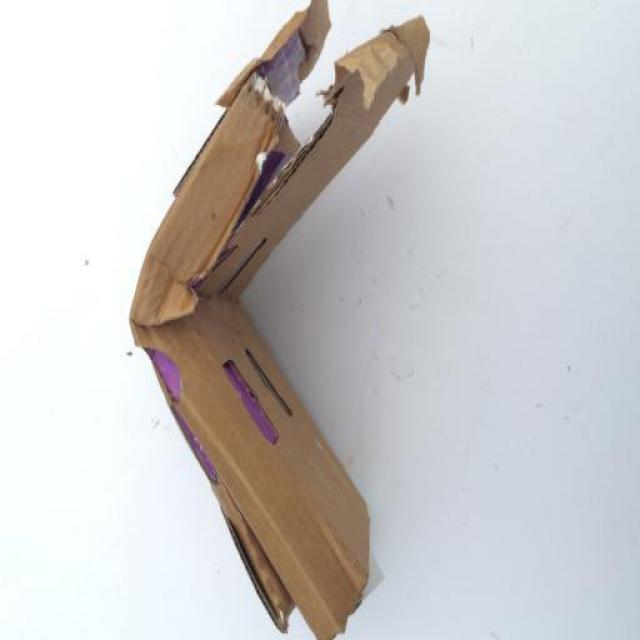cardboard: (82, 1, 499, 640)
